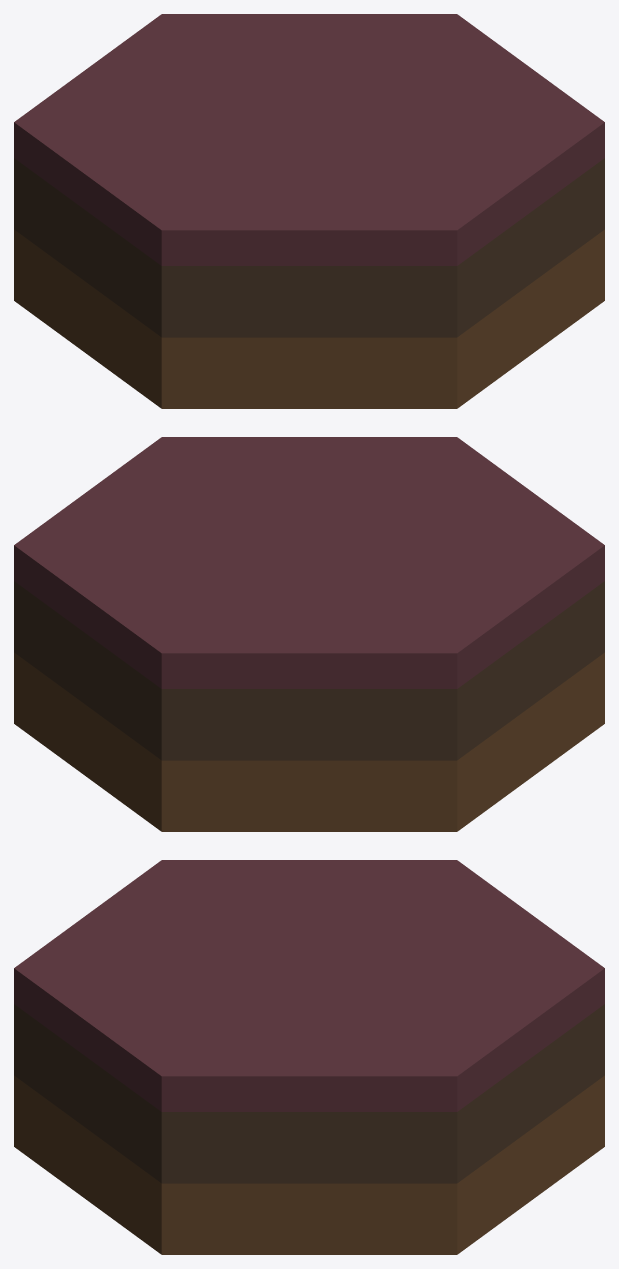
The model's file is terrains-hexagon-orange.glb.
3 views of the same model, one above another, from view 1: azimuth 30°, elevation 25°; view 2: azimuth 150°, elevation 25°; view 3: azimuth 270°, elevation 25° (orthographic).
Visible parts, largest first — view 1: hexagon_orange; view 2: hexagon_orange; view 3: hexagon_orange.
Boxes of the visible parts, x1=… form: hexagon_orange: x1=14, y1=14, x2=604, y2=408; hexagon_orange: x1=14, y1=437, x2=604, y2=831; hexagon_orange: x1=14, y1=860, x2=604, y2=1254.
Size of the model in its own units: 25.98 by 10 by 30.
